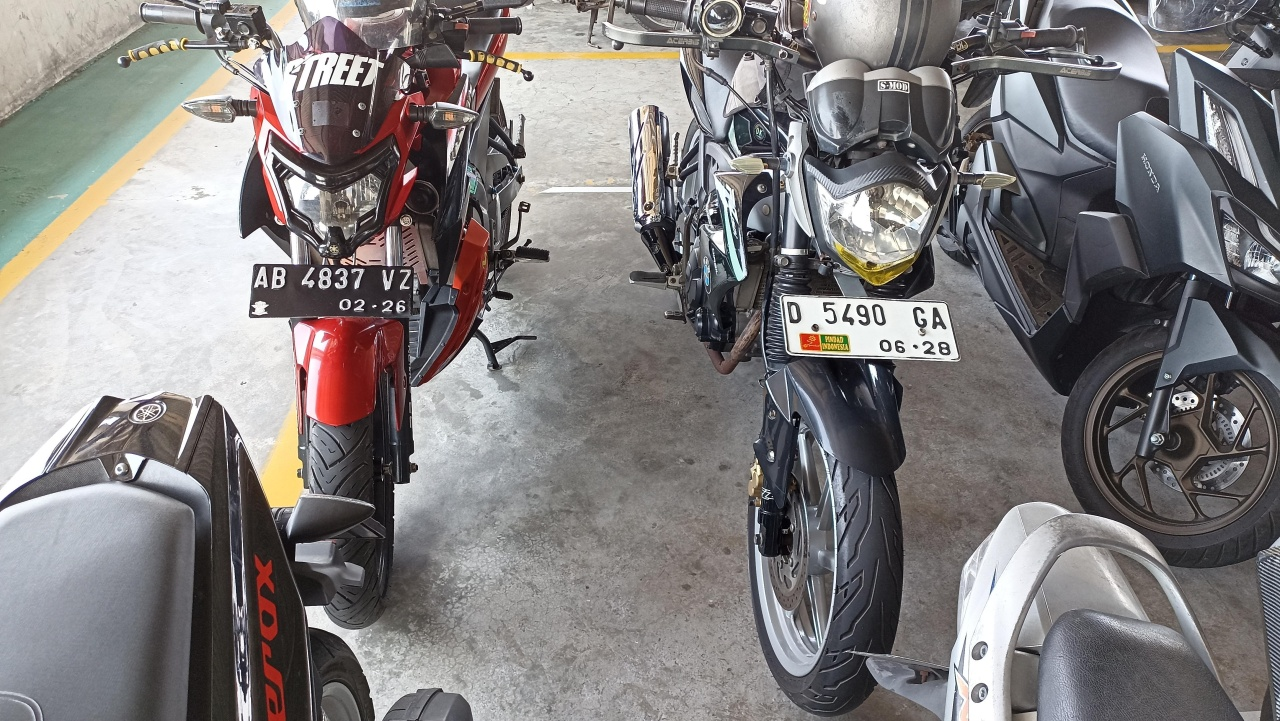plate: (780, 296, 961, 361), (249, 264, 413, 317)
